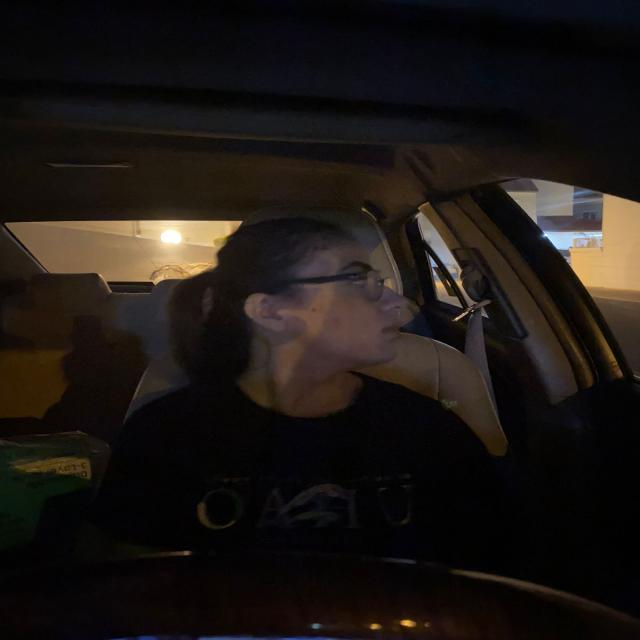LeftRight: (206, 209, 412, 384)
